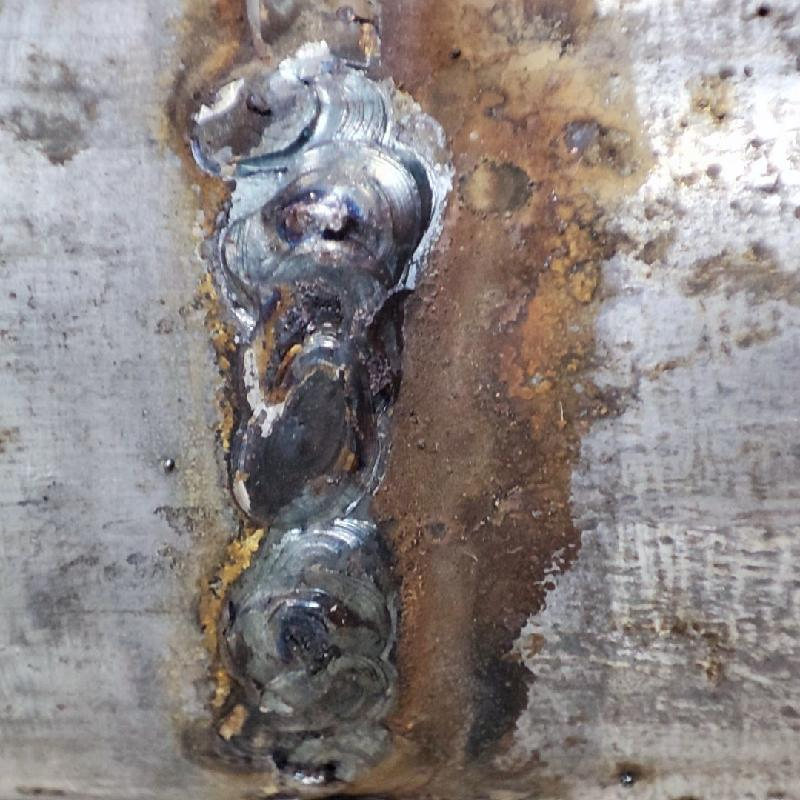wrong_size: (212, 68, 431, 714)
